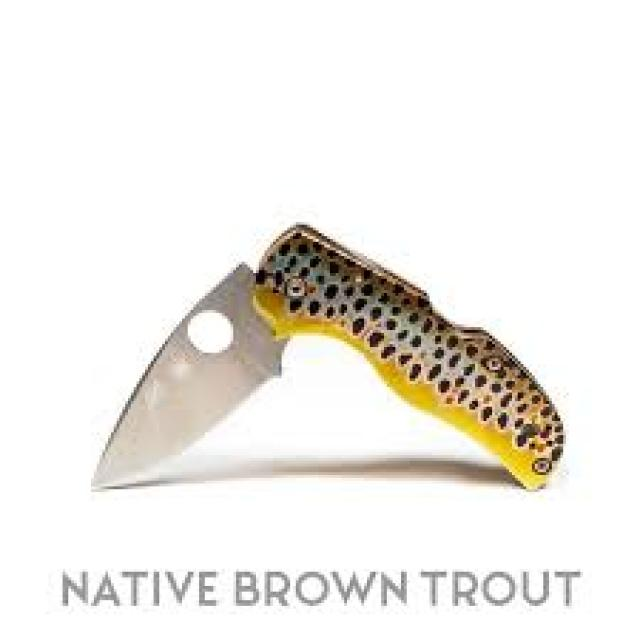knives: (85, 213, 569, 501)
